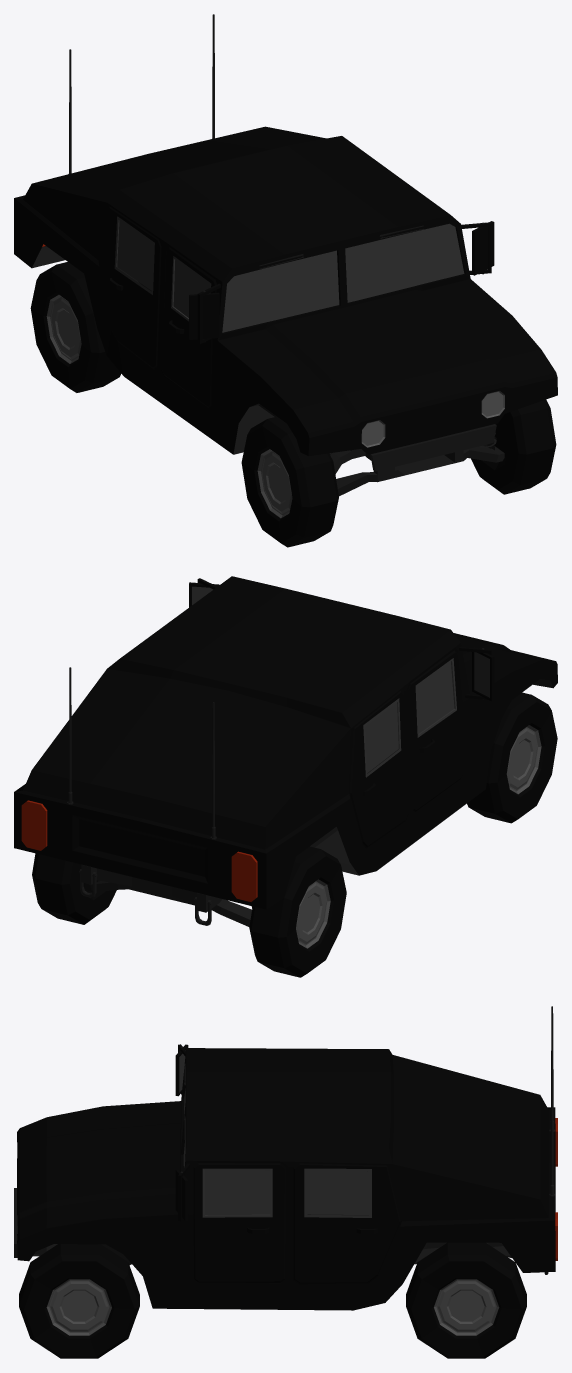
Rendered from humvee.glb.
3 views of the same model, one above another, from view 1: azimuth 30°, elevation 25°; view 2: azimuth 150°, elevation 25°; view 3: azimuth 270°, elevation 25° (orthographic). The views are drawn at different scales.
Parts seen in each view (by area): view 1: model_0, model_5, model_1, model_2, model_6, model_3; view 2: model_0, model_5, model_2, model_1, model_6, model_4; view 3: model_0, model_5, model_1, model_6, model_2.
Part boxes in pixels (bbox=[...]): model_0: bbox=[14, 126, 557, 456]; model_5: bbox=[30, 262, 556, 547]; model_1: bbox=[114, 216, 464, 332]; model_2: bbox=[32, 14, 504, 496]; model_6: bbox=[46, 295, 292, 518]; model_3: bbox=[361, 391, 504, 447]; model_0: bbox=[14, 576, 557, 909]; model_5: bbox=[32, 692, 557, 977]; model_2: bbox=[67, 580, 552, 926]; model_1: bbox=[192, 586, 489, 777]; model_6: bbox=[296, 725, 541, 948]; model_4: bbox=[21, 800, 257, 901]; model_0: bbox=[17, 1044, 555, 1310]; model_5: bbox=[19, 1242, 526, 1358]; model_1: bbox=[179, 1050, 371, 1217]; model_6: bbox=[46, 1279, 499, 1335]; model_2: bbox=[14, 1006, 555, 1274].
Size of the model in its own units: 1.38 by 1.25 by 2.32.
